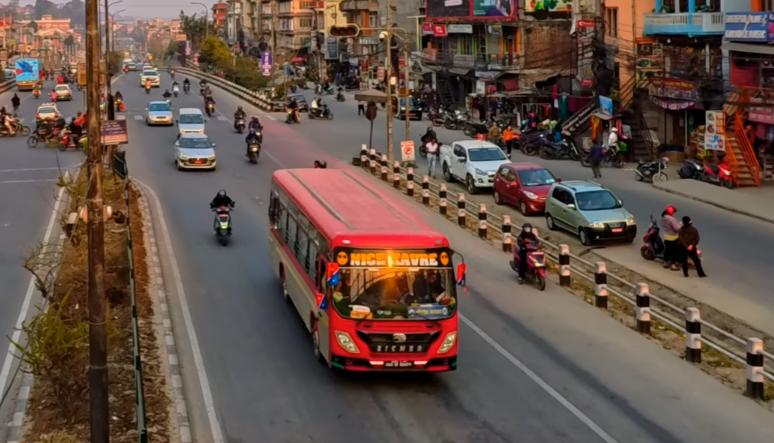bus: (260, 158, 472, 396)
car: (545, 180, 640, 250), (494, 159, 564, 217), (169, 132, 221, 172)
